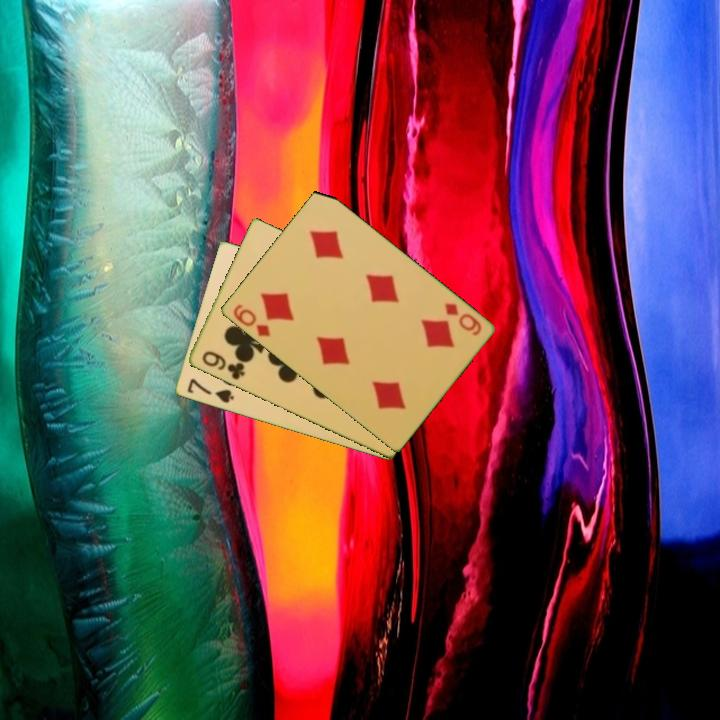6d: (229, 300, 273, 340), (440, 299, 484, 338)
7s: (183, 375, 237, 406)
9c: (198, 348, 248, 383)
